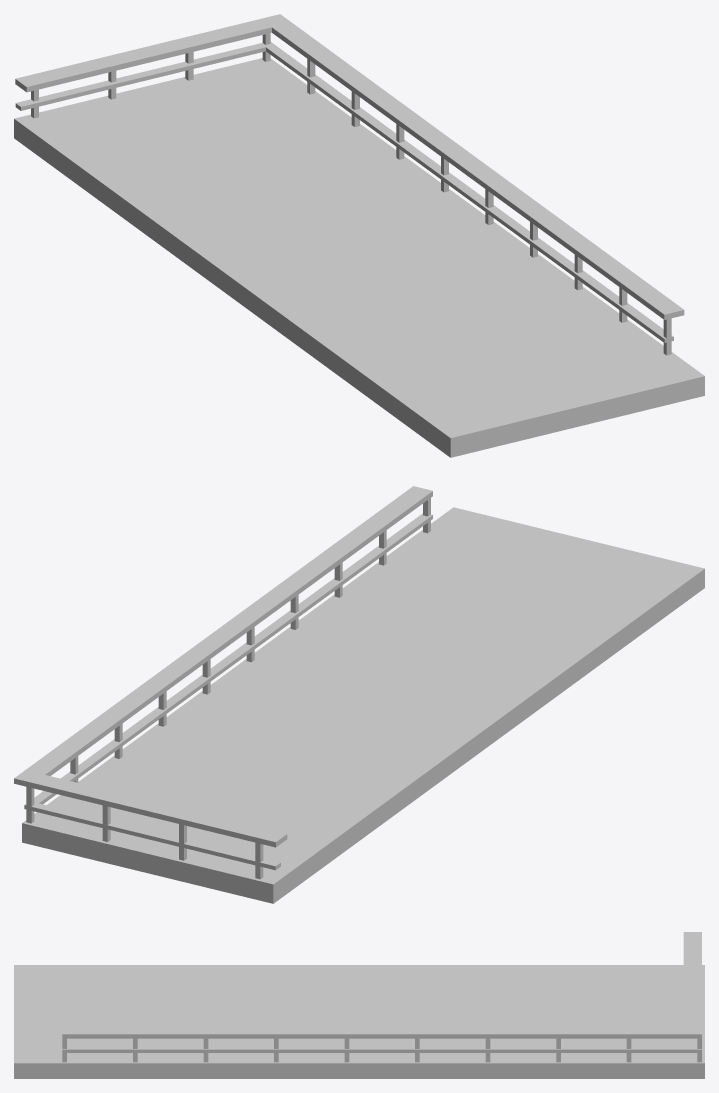
Rendered from HouseStrut.fbx.
The picture shows the model from 3 angles, top to bottom: view 1: azimuth 30°, elevation 25°; view 2: azimuth 150°, elevation 25°; view 3: azimuth 270°, elevation 25°; orthographic projection. The views are drawn at different scales.
Parts seen in each view (by area): view 1: Cube; view 2: Cube; view 3: Cube.
Part boxes in pixels (x1,y1,x2,y2): Cube: (14,14,704,457); Cube: (14,486,704,903); Cube: (14,932,704,1078).
Bounding box in the file's own units: 1030 × 227 × 2939.
